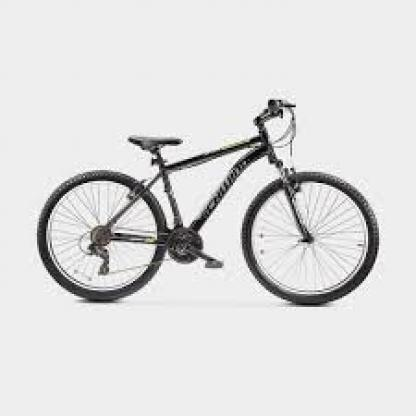Bike: (33, 91, 385, 309)
